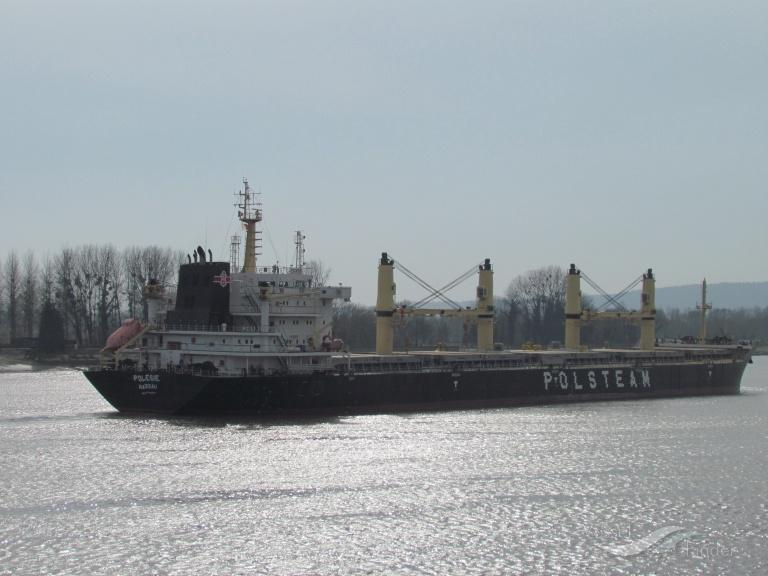OCR: (528, 365, 654, 393), (128, 371, 166, 401)
